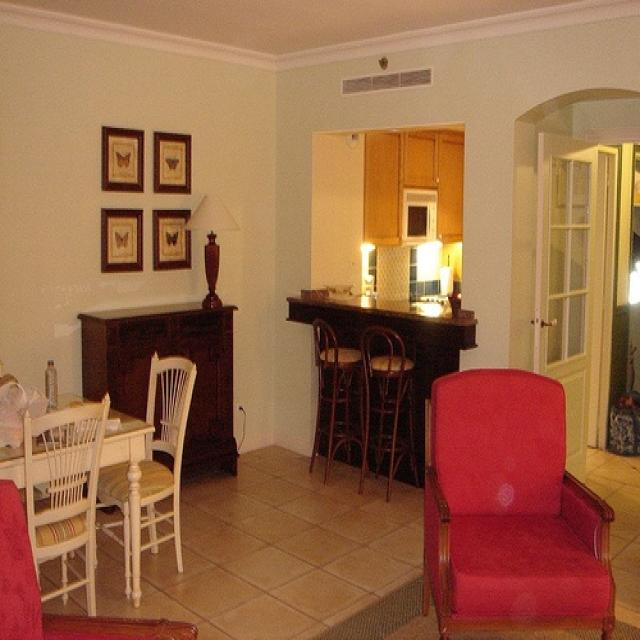bottle: (44, 357, 58, 406)
chair: (422, 367, 616, 638), (0, 479, 198, 638), (94, 353, 200, 575), (24, 396, 109, 621), (358, 326, 420, 503), (306, 319, 360, 488)
diningtable: (0, 398, 154, 606)
